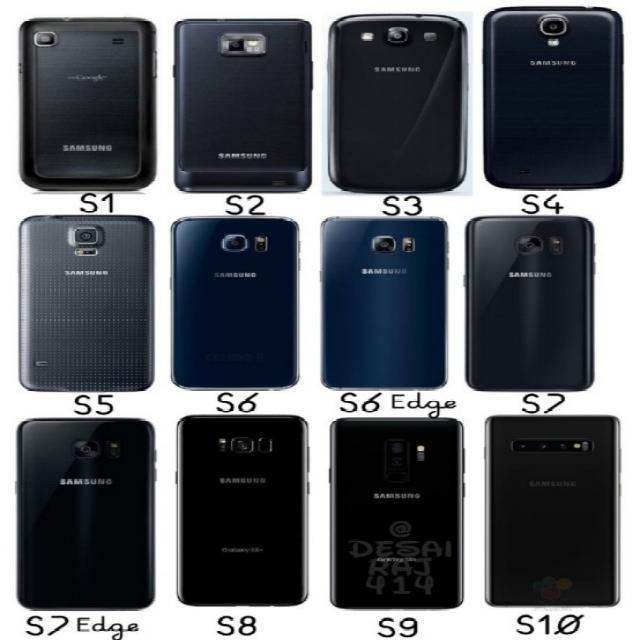phone: (482, 413, 622, 608), (18, 418, 155, 612), (330, 416, 464, 610), (174, 414, 308, 607), (484, 5, 622, 189), (328, 14, 468, 192), (172, 18, 312, 194), (18, 17, 158, 190), (463, 214, 597, 390), (17, 215, 152, 389), (320, 217, 450, 389), (172, 216, 300, 390)
